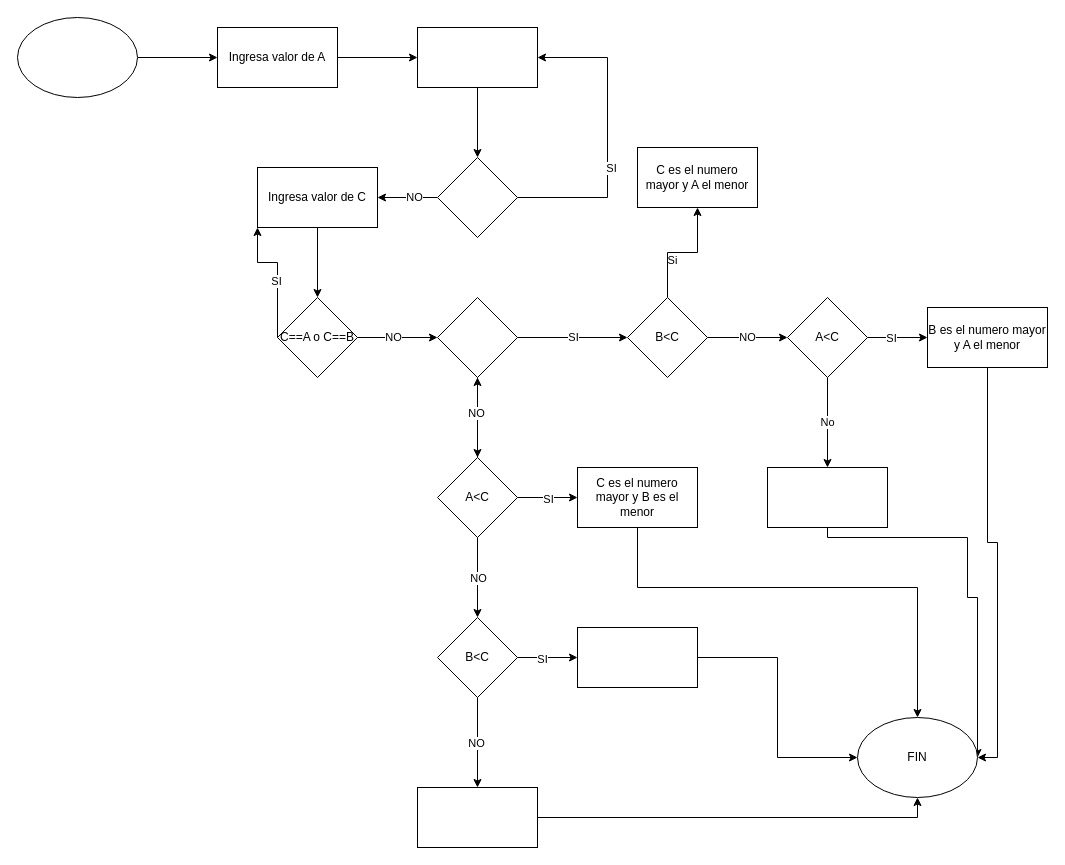
Some shapes in this 1065 by 865 pixel diagram are drawn without their labels. Each missing label, with the box of its shape:
A es el numero mayor y B el menor: (576, 626, 698, 688)
A es el numero mayor y C el menor: (416, 786, 538, 848)
A<B: (436, 296, 518, 378)
A==B: (436, 156, 518, 238)
B es el numero mayor y C el menor: (766, 466, 888, 528)
Ingresa valor de B: (416, 26, 538, 88)
